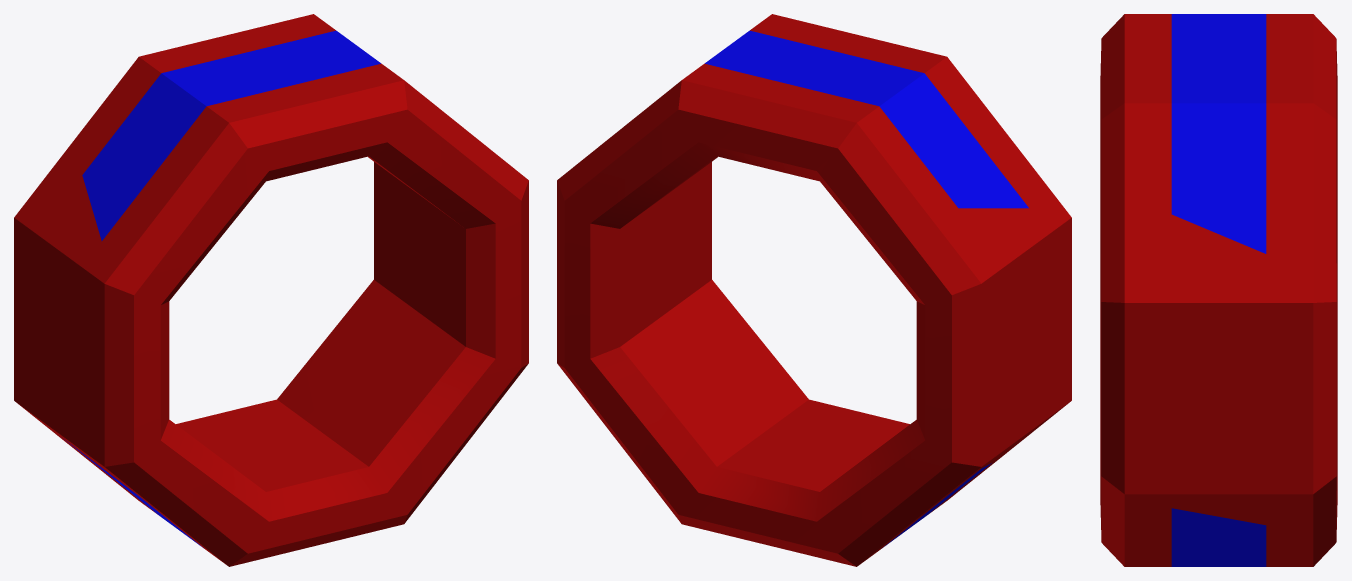
File: Ring_01.fbx
3 views of the same model, side by side, from view 1: azimuth 30°, elevation 25°; view 2: azimuth 150°, elevation 25°; view 3: azimuth 270°, elevation 25° (orthographic). The views are drawn at different scales.
Visible parts, largest first — view 1: SM_Item_Ring_01; view 2: SM_Item_Ring_01; view 3: SM_Item_Ring_01.
Boxes of the visible parts, <box> form: SM_Item_Ring_01: <box>14,14,528,566</box>; SM_Item_Ring_01: <box>557,14,1071,566</box>; SM_Item_Ring_01: <box>1100,14,1337,566</box>.
Bounding box in the file's own units: 5.55 × 5.55 × 2.57.
